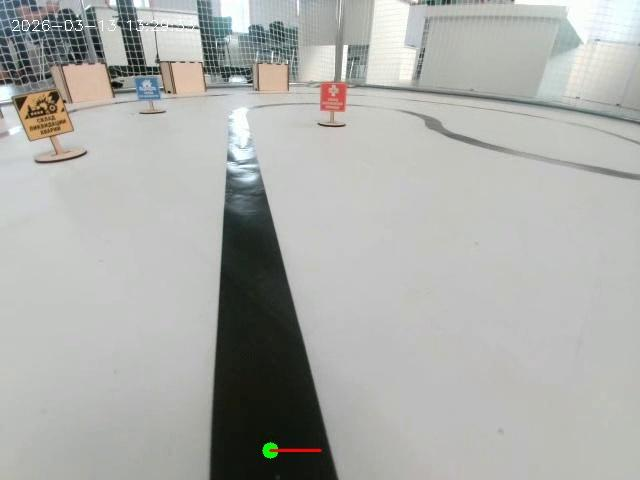flood: (130, 65, 177, 124)
industrial: (5, 85, 106, 166)
medical: (316, 61, 352, 144)
